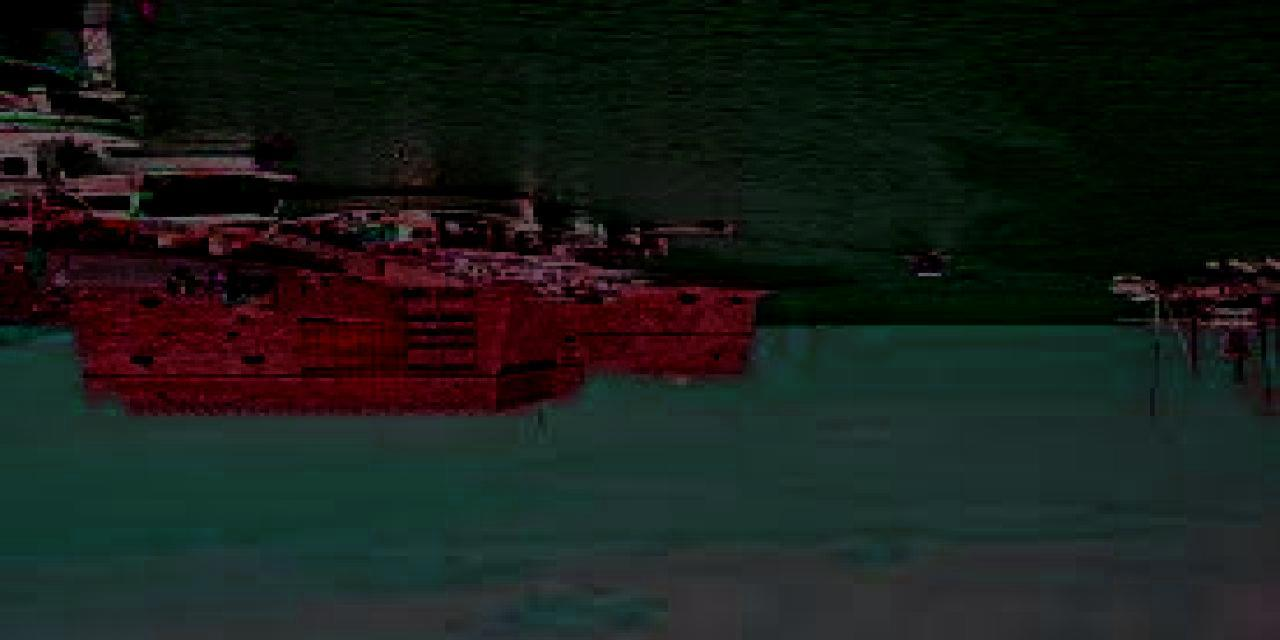Kules: (78, 276, 788, 419)
